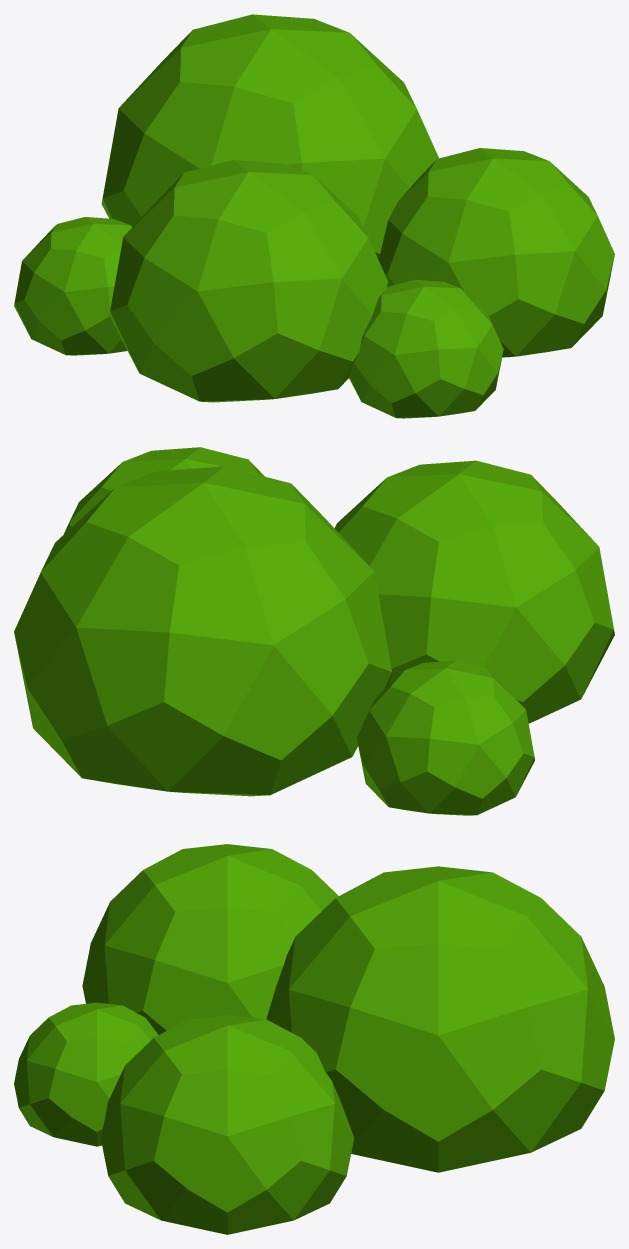
The model's file is Grm02.glb.
The picture shows the model from 3 angles, top to bottom: view 1: azimuth 30°, elevation 25°; view 2: azimuth 150°, elevation 25°; view 3: azimuth 270°, elevation 25°; orthographic projection. The views are drawn at different scales.
Visible parts, largest first — view 1: Bush; view 2: Bush; view 3: Bush.
Boxes of the visible parts, x1,y1,x2,y2 form: Bush: (14,14,614,418); Bush: (14,447,614,815); Bush: (14,844,614,1234).
Bounding box in the file's own units: 0.2115 × 0.1052 × 0.2185.
